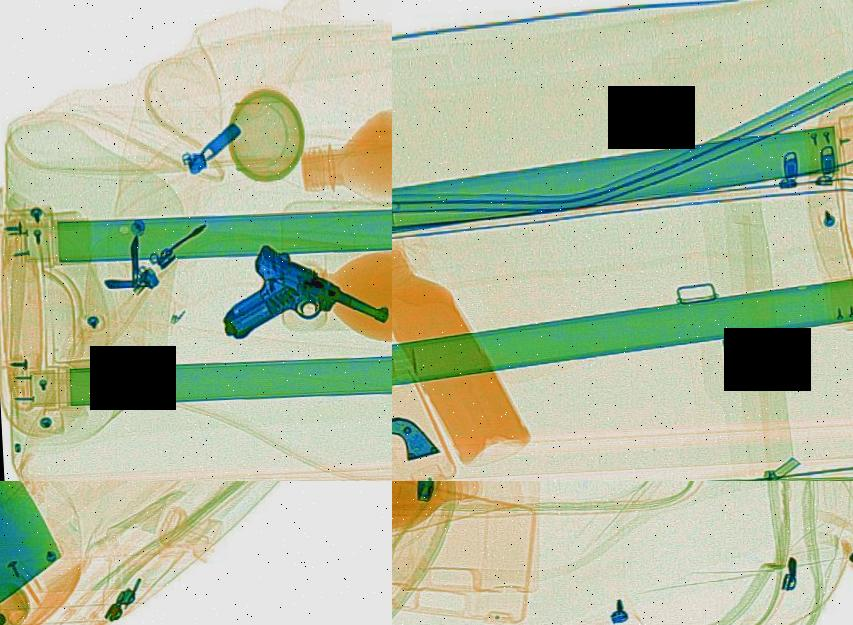Gun: (207, 231, 392, 369)
Knife: (0, 481, 88, 618)
